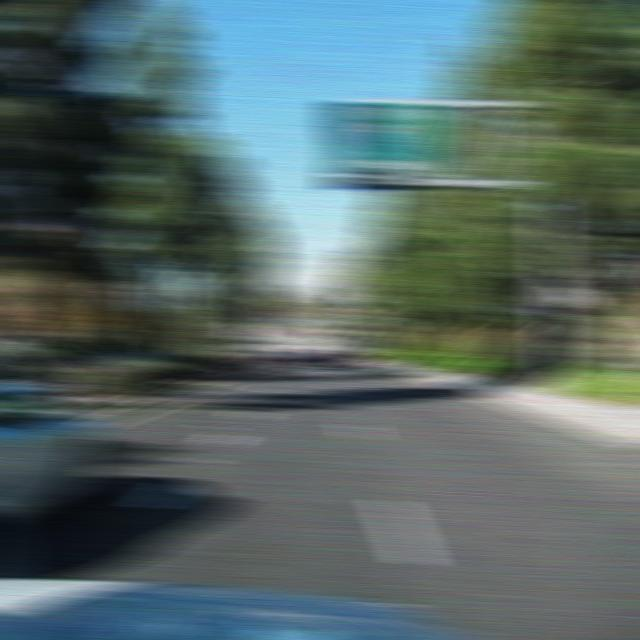speedLimit35: (536, 277, 574, 307)
